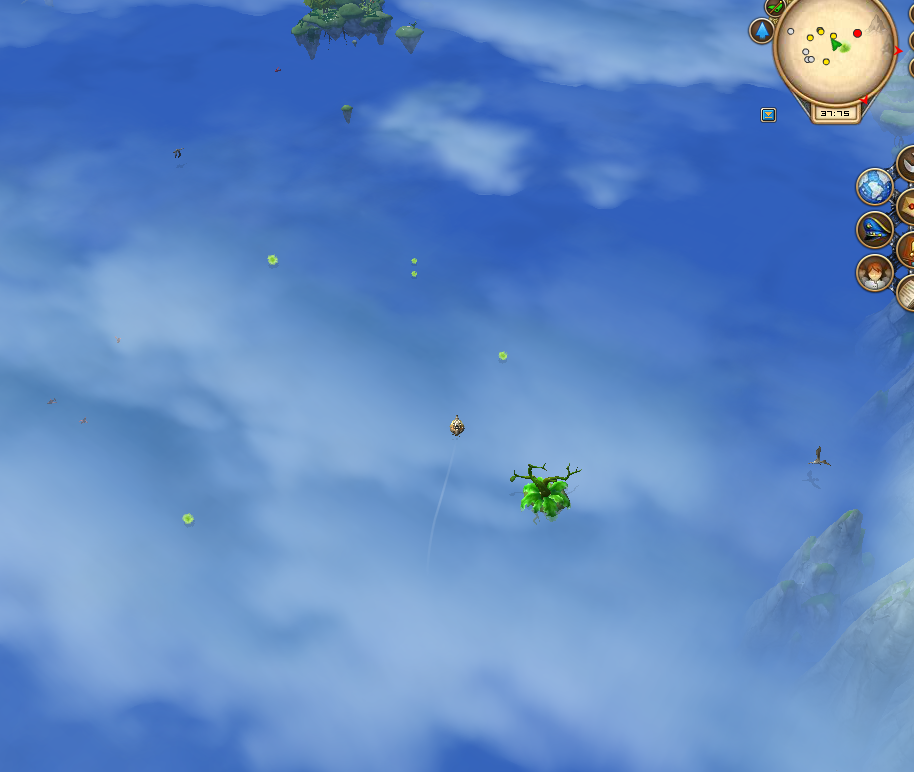dandelion-empty: (507, 452, 584, 524)
fluff: (263, 248, 281, 268), (180, 508, 196, 527), (496, 348, 509, 362), (409, 254, 420, 267), (410, 269, 420, 282)
